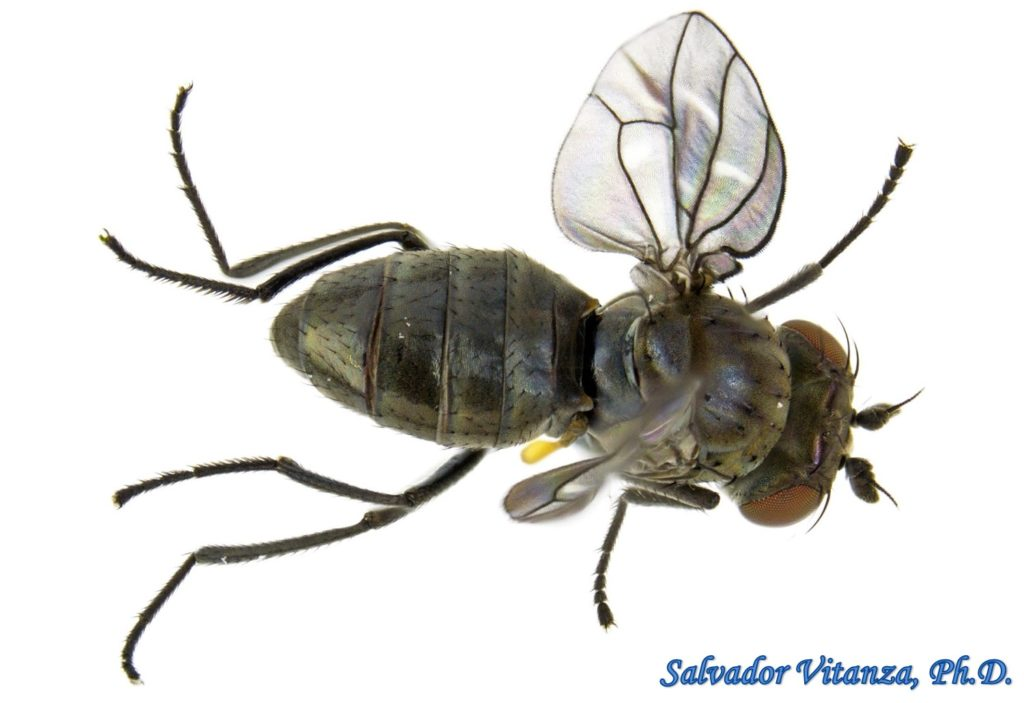Ephydridae: (100, 10, 924, 688)
